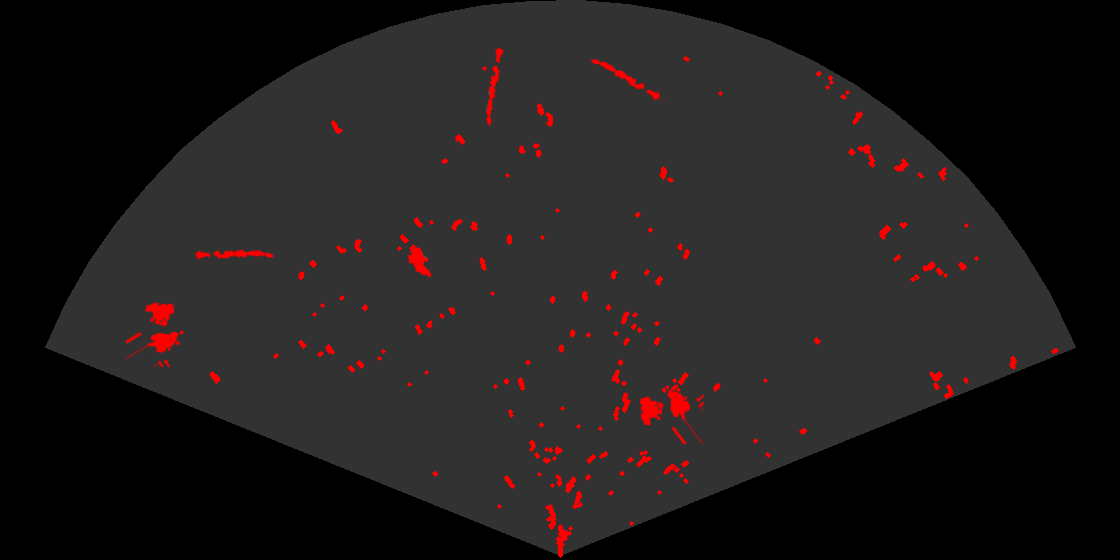AUV: (406, 243, 433, 279)
cage: (638, 384, 704, 444), (126, 301, 185, 367)
chain: (589, 57, 669, 106), (485, 44, 505, 127), (194, 248, 275, 261)
